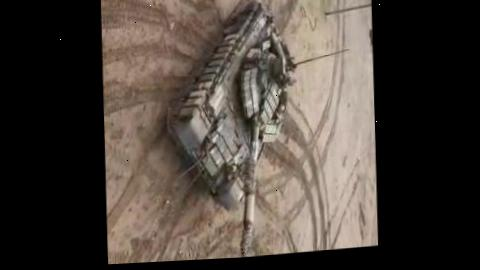tank: (159, 0, 304, 262)
